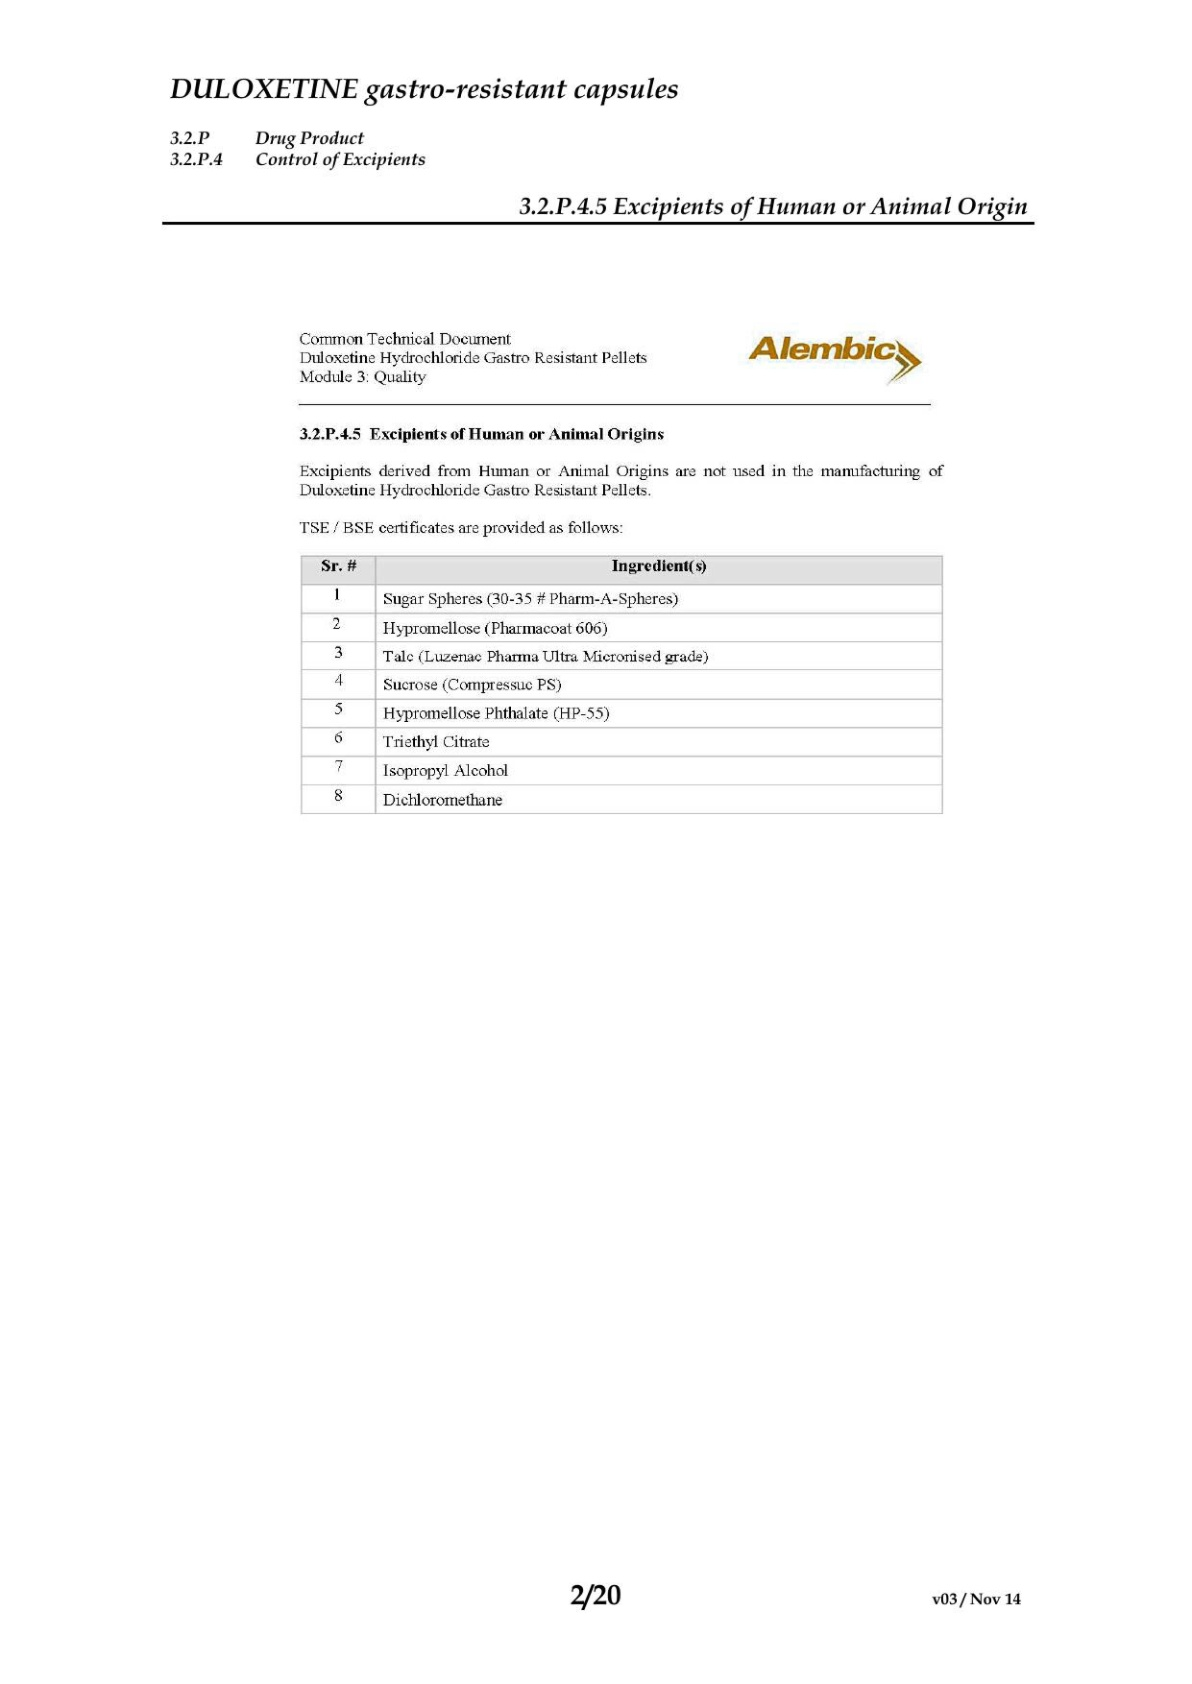full_lined: (301, 554, 943, 814)
